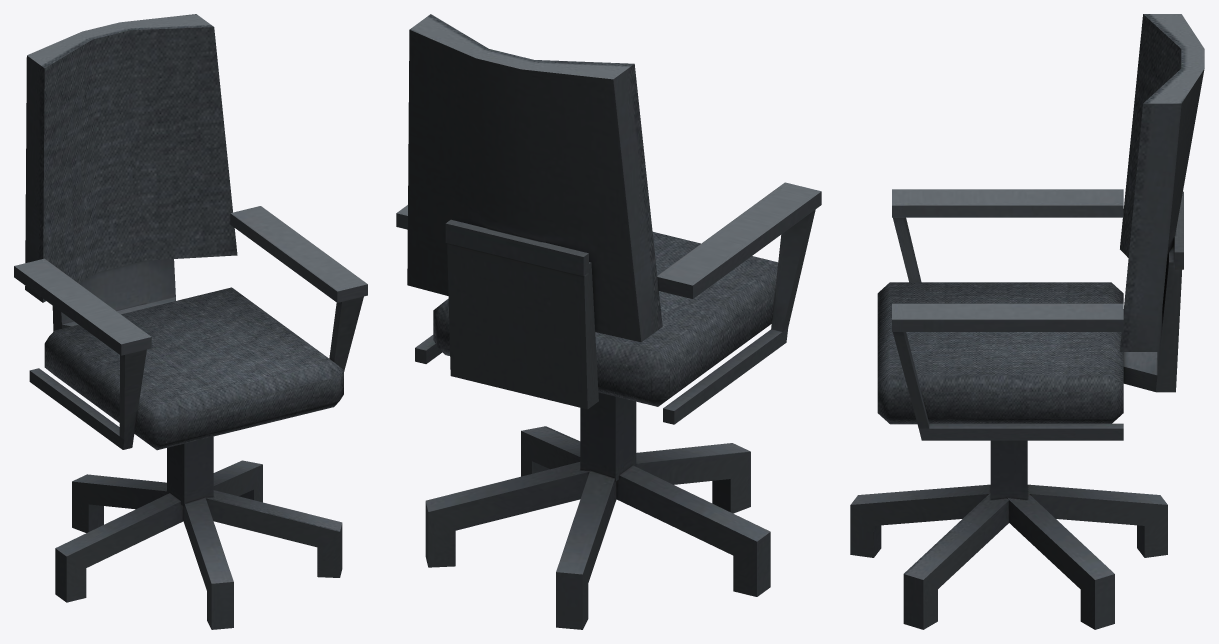
The model's file is Chair_Office.gltf.
3 renders of one model, left to right at view 1: azimuth 30°, elevation 25°; view 2: azimuth 150°, elevation 25°; view 3: azimuth 270°, elevation 25°, orthographic. The views are drawn at different scales.
Parts seen in each view (by area): view 1: officeChair; view 2: officeChair; view 3: officeChair.
Boxes of the visible parts, <box> form: officeChair: <box>14,14,367,629</box>; officeChair: <box>396,14,821,629</box>; officeChair: <box>850,14,1204,629</box>.
Bounding box in the file's own units: 6.42 × 11.49 × 7.2.
1 material, 1 textured.
